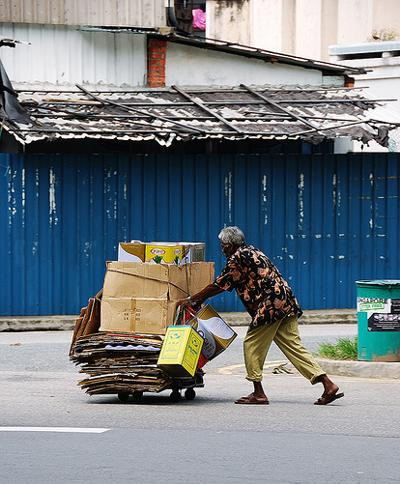person: (181, 227, 339, 407)
